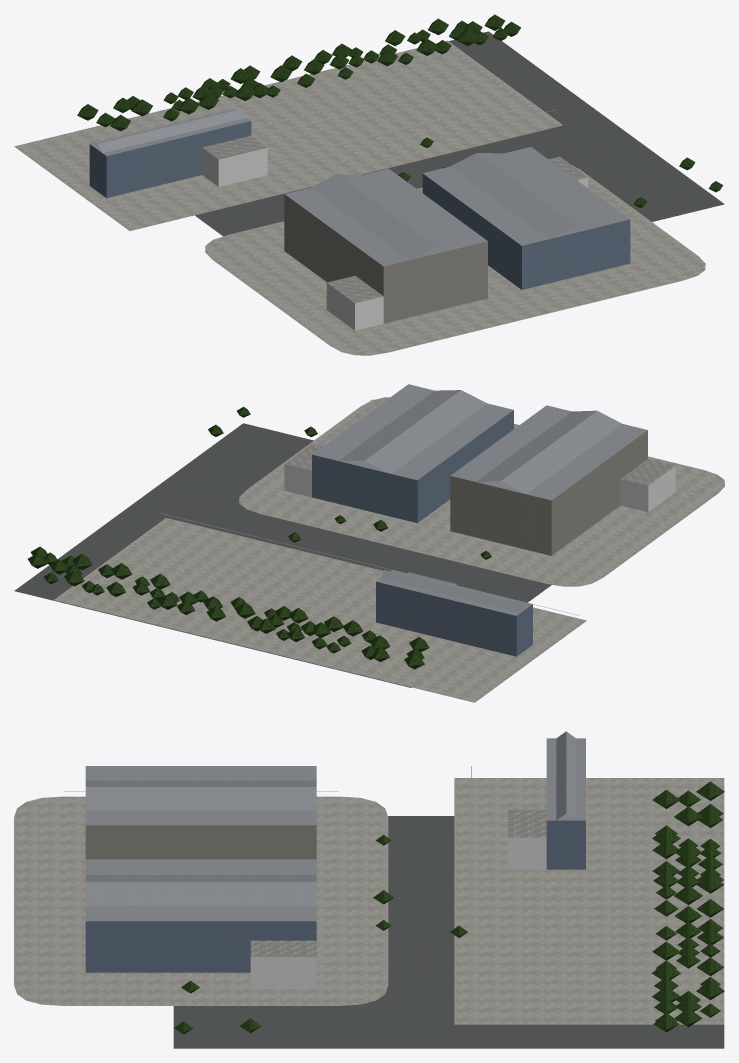
Rendered from cidade_S06_07_lod.gltf.
The picture shows the model from 3 angles, top to bottom: view 1: azimuth 30°, elevation 25°; view 2: azimuth 150°, elevation 25°; view 3: azimuth 270°, elevation 25°; orthographic projection. The views are drawn at different scales.
Visible parts, largest first — view 1: S06_07_Chao_LOD2, S06_07_Edificios_LOD1, S06_07_Silhueta_LOD2, S06_07_Vegetacao_LOD2; view 2: S06_07_Chao_LOD2, S06_07_Edificios_LOD1, S06_07_Silhueta_LOD2, S06_07_Vegetacao_LOD2; view 3: S06_07_Chao_LOD2, S06_07_Edificios_LOD1, S06_07_Silhueta_LOD2, S06_07_Vegetacao_LOD2.
Boxes of the visible parts, left/top/right/bottom form: S06_07_Chao_LOD2: left=14, top=31, right=724, bottom=355; S06_07_Edificios_LOD1: left=89, top=108, right=685, bottom=332; S06_07_Silhueta_LOD2: left=89, top=108, right=630, bottom=322; S06_07_Vegetacao_LOD2: left=77, top=14, right=723, bottom=207; S06_07_Chao_LOD2: left=14, top=397, right=724, bottom=702; S06_07_Edificios_LOD1: left=159, top=390, right=705, bottom=656; S06_07_Silhueta_LOD2: left=312, top=384, right=647, bottom=656; S06_07_Vegetacao_LOD2: left=28, top=406, right=491, bottom=669; S06_07_Chao_LOD2: left=14, top=778, right=724, bottom=1048; S06_07_Edificios_LOD1: left=64, top=731, right=585, bottom=1012; S06_07_Silhueta_LOD2: left=85, top=738, right=585, bottom=972; S06_07_Vegetacao_LOD2: left=174, top=781, right=724, bottom=1034.
Bounding box in the file's own units: 118 × 15.18 × 129.
Materials: 8 (8 with a texture image).
